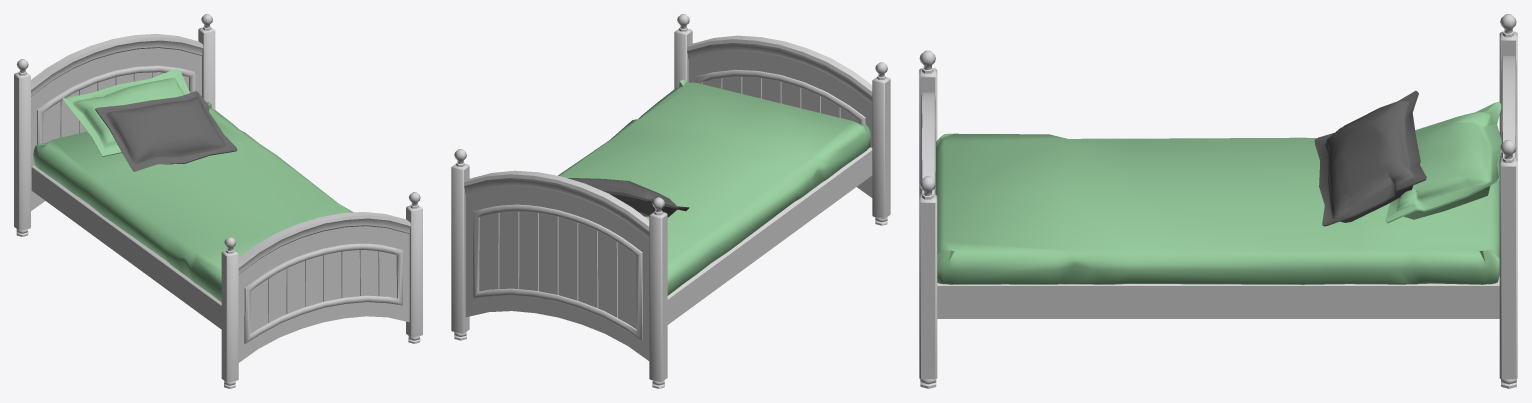
File: YMJBD01.FBX
The picture shows the model from 3 angles, left to right: view 1: azimuth 30°, elevation 25°; view 2: azimuth 150°, elevation 25°; view 3: azimuth 270°, elevation 25°; orthographic projection. The views are drawn at different scales.
Parts seen in each view (by area): view 1: YMJBD01; view 2: YMJBD01; view 3: YMJBD01.
Part boxes in pixels (x1,y1,x2,y2): YMJBD01: (14,14,422,388); YMJBD01: (451,14,890,388); YMJBD01: (919,14,1517,388).
Size of the model in its own units: 101 by 190 by 86.01.
